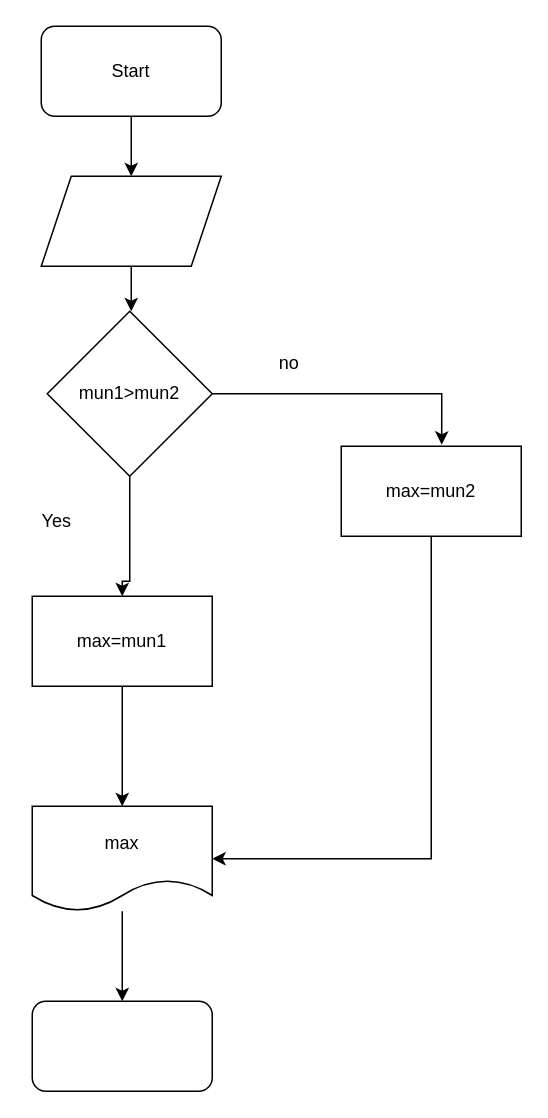
The diagram is 548 pixels wide and 1118 high, and some of its shapes have lost their labels. The shapes that lost their labels are listed below. From the top down, each one's centre as x and y in pixels, then its label:
(130,220): mun1, mum2
(121,1045): End
